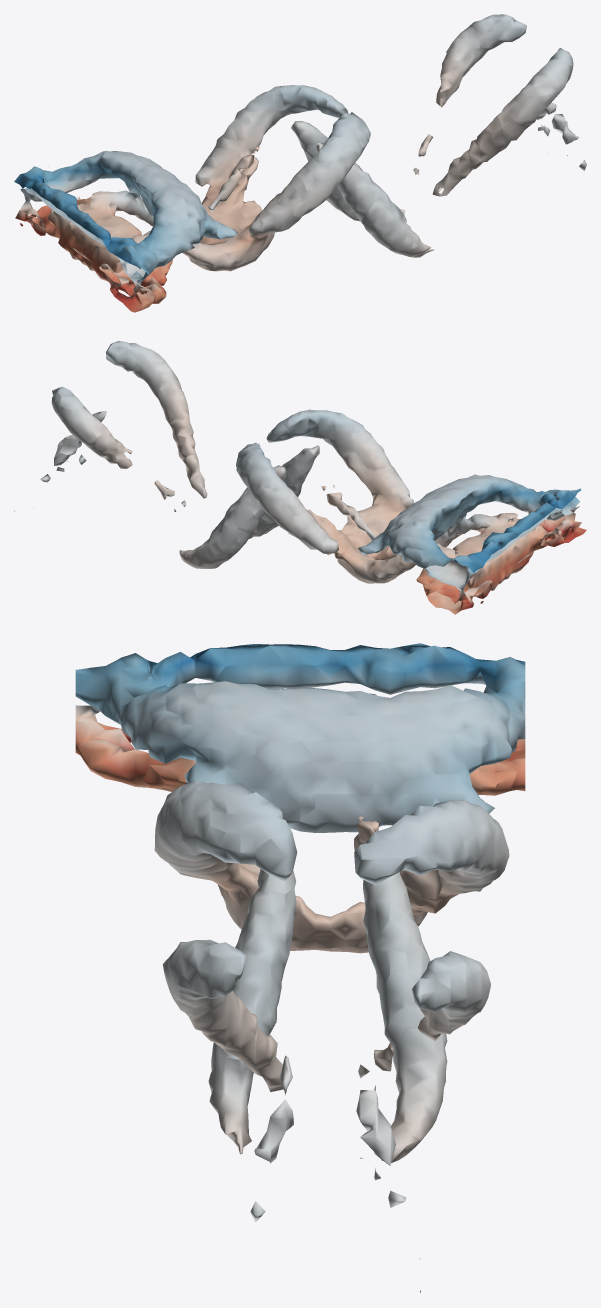
3 views of the same model, one above another, from view 1: azimuth 30°, elevation 25°; view 2: azimuth 150°, elevation 25°; view 3: azimuth 270°, elevation 25° (orthographic). The views are drawn at different scales.
Bounding box in the file's own units: 6.27 × 2.01 × 2.5.
